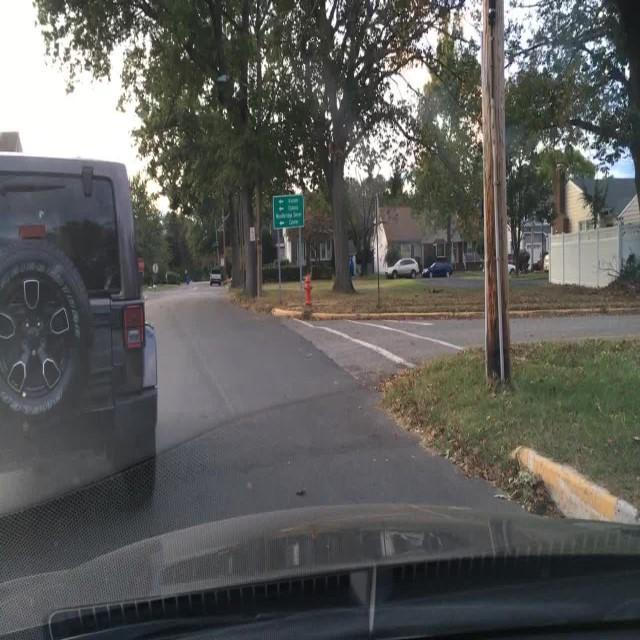normal: (0, 127, 205, 523), (387, 259, 423, 279), (423, 261, 453, 279)
